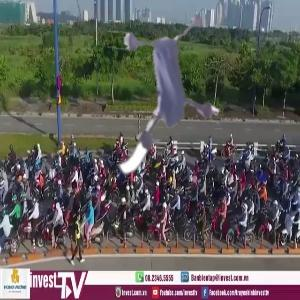drone: (83, 11, 235, 163)
